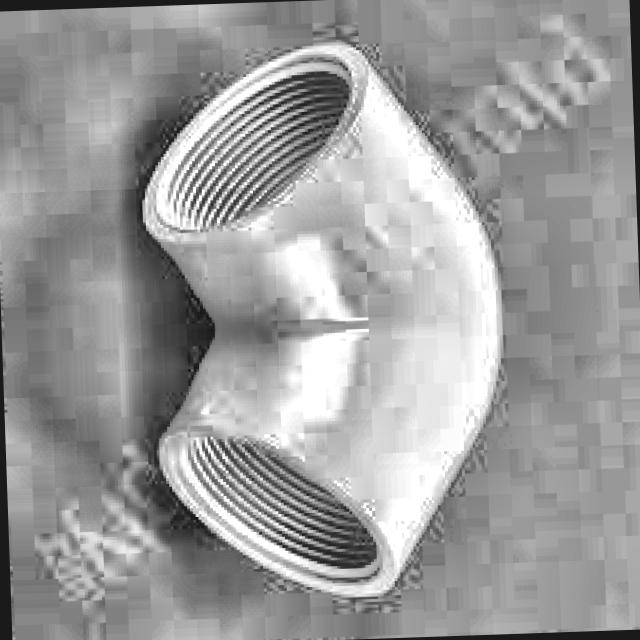ELBOW90: (138, 44, 502, 600)
